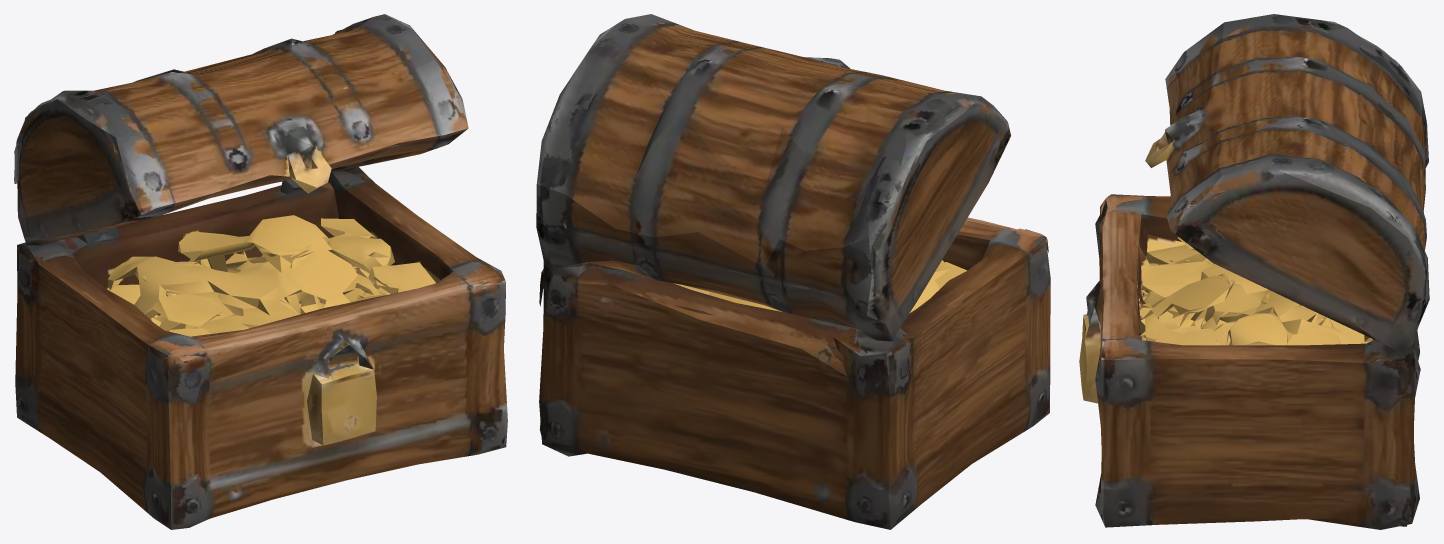
File: chest__n322.glb
3 renders of one model, left to right at view 1: azimuth 30°, elevation 25°; view 2: azimuth 150°, elevation 25°; view 3: azimuth 270°, elevation 25°, orthographic. The views are drawn at different scales.
Size of the model in its own units: 0.9903 by 0.9891 by 0.8627.
Materials: 1 (1 with a texture image).
